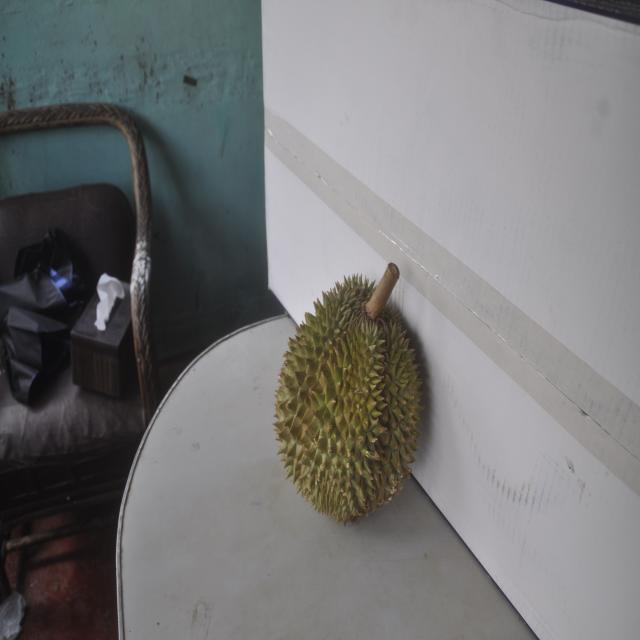mature: (273, 267, 424, 526)
